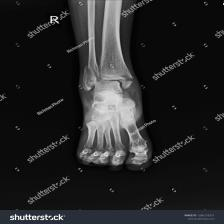spiral-fracture: (71, 0, 151, 169)
